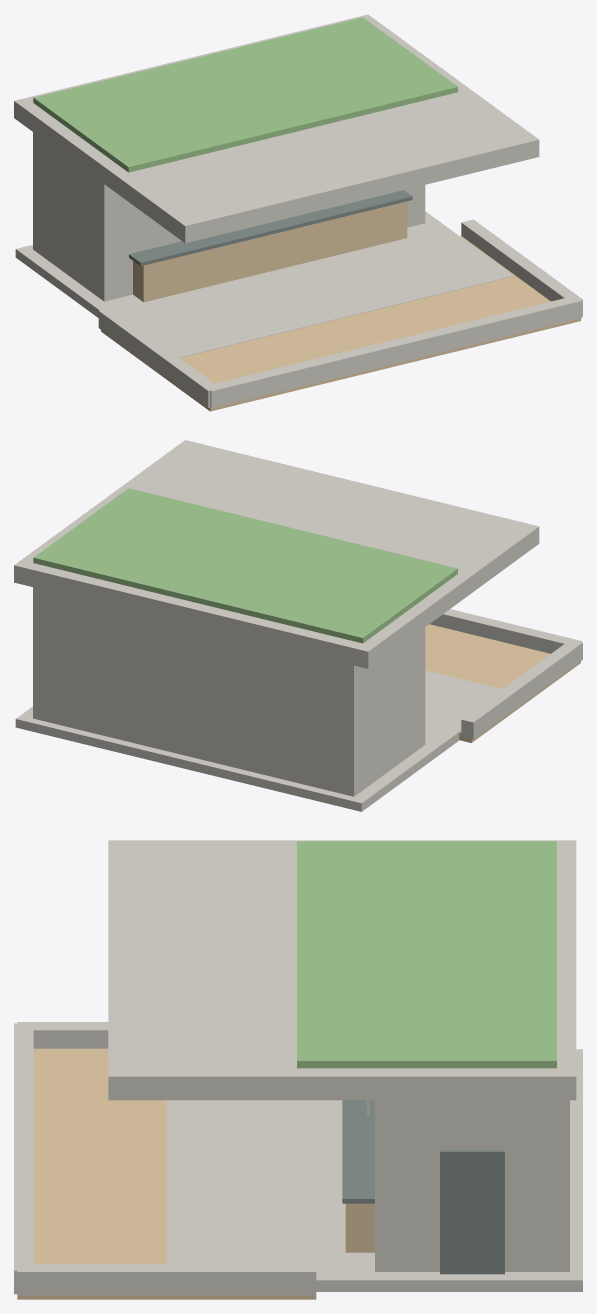
File: Canteen.fbx
3 views of the same model, one above another, from view 1: azimuth 30°, elevation 25°; view 2: azimuth 150°, elevation 25°; view 3: azimuth 270°, elevation 25° (orthographic). The views are drawn at different scales.
Visible parts, largest first — view 1: Canteen_Roof_Canopy, Canteen_LivingRoof, Canteen_BaseSlab, Dining_Deck, Kitchen_Volume, Counter_Body, Deck_Edge_F, Counter_Top, Deck_Edge_L, Deck_Edge_R; view 2: Kitchen_Volume, Canteen_Roof_Canopy, Canteen_LivingRoof, Canteen_BaseSlab, Dining_Deck, Deck_Edge_L, Deck_Edge_F; view 3: Canteen_Roof_Canopy, Canteen_LivingRoof, Canteen_BaseSlab, Dining_Deck, Kitchen_Volume, Deck_Edge_R, Canteen_StaffDoor, Deck_Edge_F, Counter_Top, Deck_Edge_L, Counter_Body.
Boxes of the visible parts, left/top/right/bottom form: Canteen_Roof_Canopy: left=14, top=14, right=539, bottom=243; Canteen_LivingRoof: left=33, top=17, right=457, bottom=172; Canteen_BaseSlab: left=15, top=211, right=513, bottom=357; Dining_Deck: left=101, top=236, right=580, bottom=411; Kitchen_Volume: left=33, top=132, right=425, bottom=301; Counter_Body: left=133, top=201, right=407, bottom=302; Deck_Edge_F: left=206, top=295, right=581, bottom=408; Counter_Top: left=129, top=190, right=412, bottom=266; Deck_Edge_L: left=98, top=308, right=214, bottom=407; Deck_Edge_R: left=461, top=219, right=582, bottom=316; Kitchen_Volume: left=33, top=587, right=425, bottom=796; Canteen_Roof_Canopy: left=14, top=440, right=539, bottom=668; Canteen_LivingRoof: left=33, top=488, right=457, bottom=643; Canteen_BaseSlab: left=15, top=670, right=502, bottom=811; Dining_Deck: left=425, top=624, right=580, bottom=742; Deck_Edge_L: left=461, top=642, right=582, bottom=739; Deck_Edge_F: left=429, top=609, right=581, bottom=653; Canteen_Roof_Canopy: left=108, top=840, right=576, bottom=1100; Canteen_LivingRoof: left=297, top=841, right=556, bottom=1068; Canteen_BaseSlab: left=166, top=1049, right=582, bottom=1291; Dining_Deck: left=17, top=1048, right=316, bottom=1299; Kitchen_Volume: left=375, top=1100, right=569, bottom=1271; Deck_Edge_R: left=17, top=1264, right=316, bottom=1295; Canteen_StaffDoor: left=440, top=1150, right=504, bottom=1274; Deck_Edge_F: left=14, top=1023, right=33, bottom=1294; Counter_Top: left=342, top=1100, right=374, bottom=1203; Deck_Edge_L: left=17, top=1022, right=108, bottom=1048; Counter_Body: left=345, top=1203, right=374, bottom=1252.
Bounding box in the file's own units: 910 × 388 × 875.
